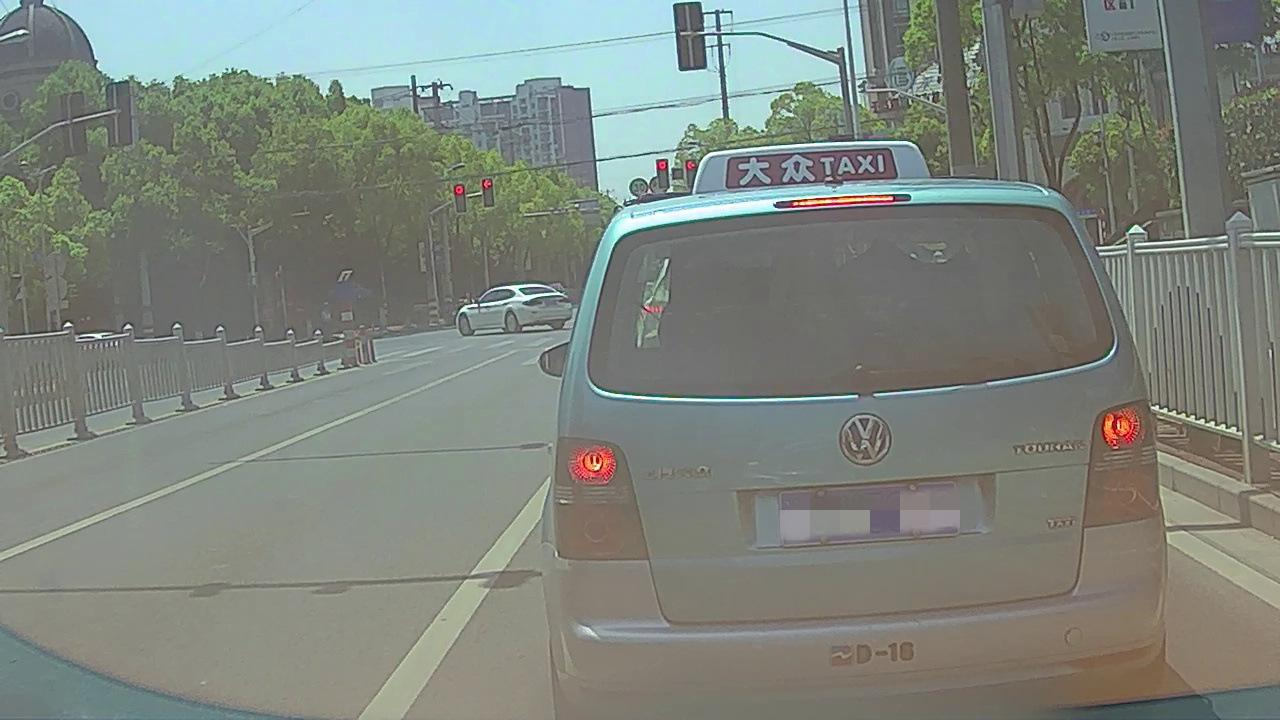traffic_light: (482, 178, 494, 208), (686, 159, 699, 186), (453, 184, 465, 213), (657, 160, 668, 187)
